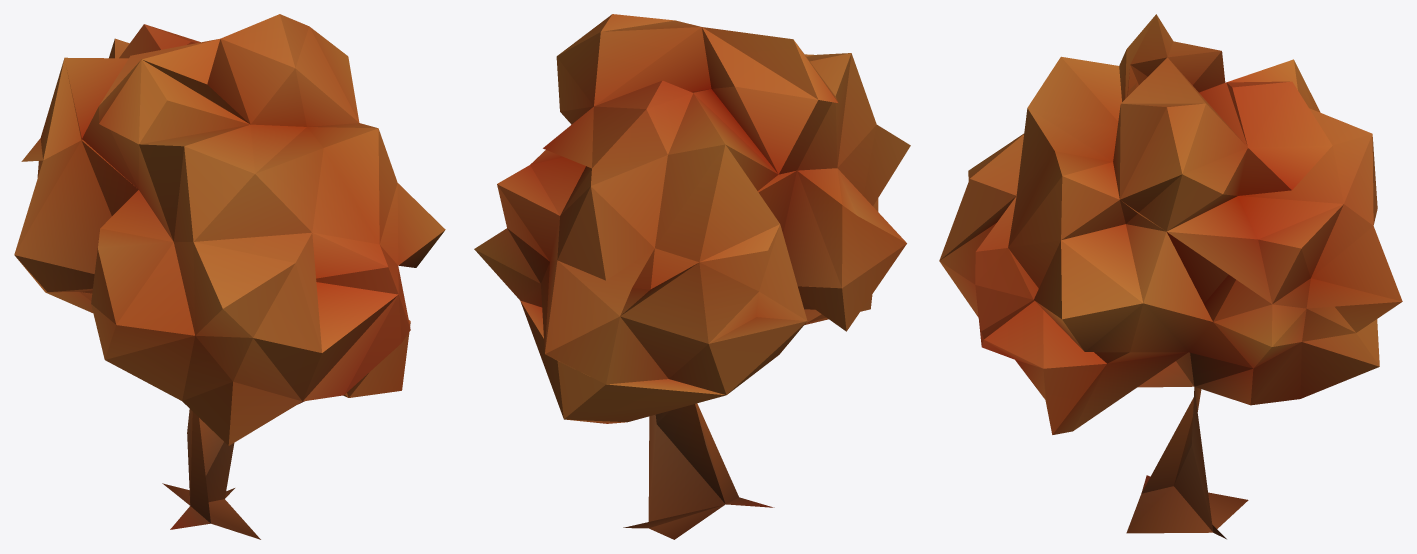
The model's file is autumn-tree.glb.
The picture shows the model from 3 angles, left to right: view 1: azimuth 30°, elevation 25°; view 2: azimuth 150°, elevation 25°; view 3: azimuth 270°, elevation 25°; orthographic projection. The views are drawn at different scales.
Parts seen in each view (by area): view 1: autumn-tree-far; view 2: autumn-tree-far; view 3: autumn-tree-far.
Part boxes in pixels (x1,y1,x2,y2): autumn-tree-far: (14,14,445,539); autumn-tree-far: (474,14,910,539); autumn-tree-far: (939,14,1402,539).
Size of the model in its own units: 0.6891 by 0.9997 by 0.8913.
